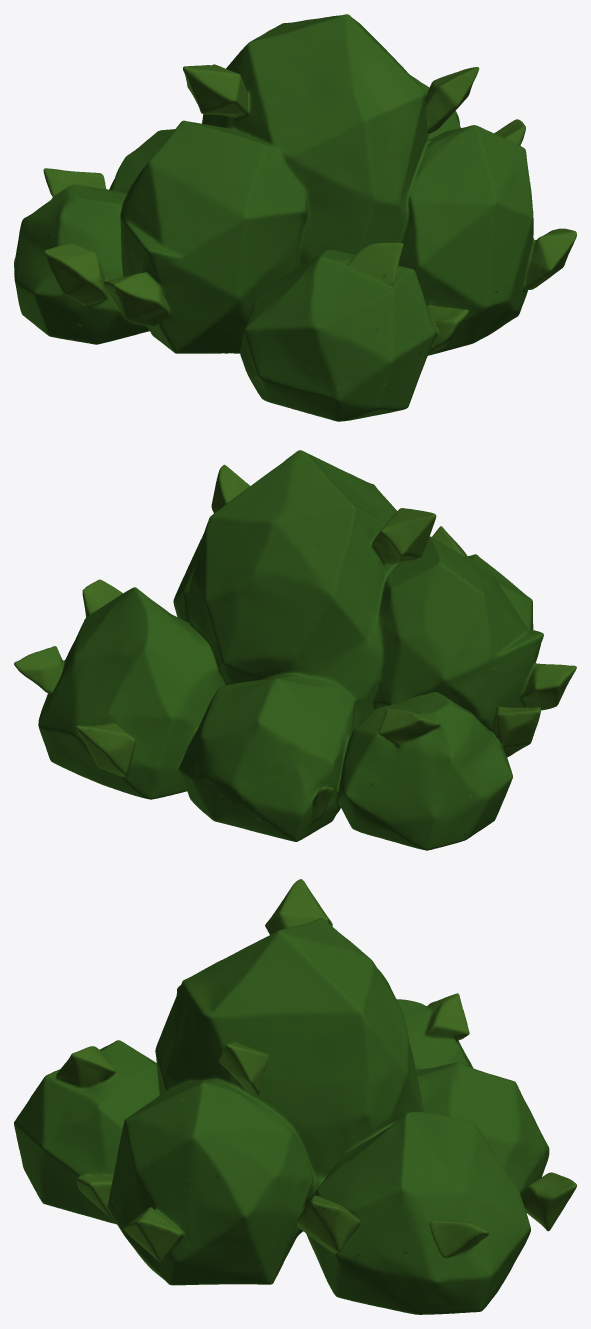
File: bush1.glb
The picture shows the model from 3 angles, top to bottom: view 1: azimuth 30°, elevation 25°; view 2: azimuth 150°, elevation 25°; view 3: azimuth 270°, elevation 25°; orthographic projection. The views are drawn at different scales.
Visible parts, largest first — view 1: world; view 2: world; view 3: world.
Boxes of the visible parts, x1=… form: world: x1=14, y1=14, x2=576, y2=421; world: x1=14, y1=450, x2=576, y2=850; world: x1=14, y1=879, x2=576, y2=1314.
Size of the model in its own units: 0.9969 by 0.5909 by 1.
1 material, 1 textured.
